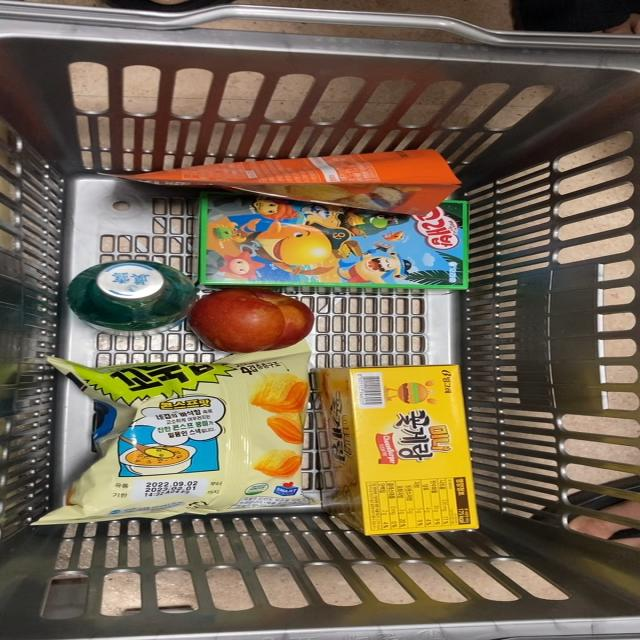cheesebagel: (97, 140, 459, 215)
ggobukchip: (51, 347, 325, 529)
goraebob: (196, 195, 479, 293)
jinro: (66, 252, 186, 336)
minicrab: (332, 367, 488, 532)
plum: (187, 294, 313, 354)
